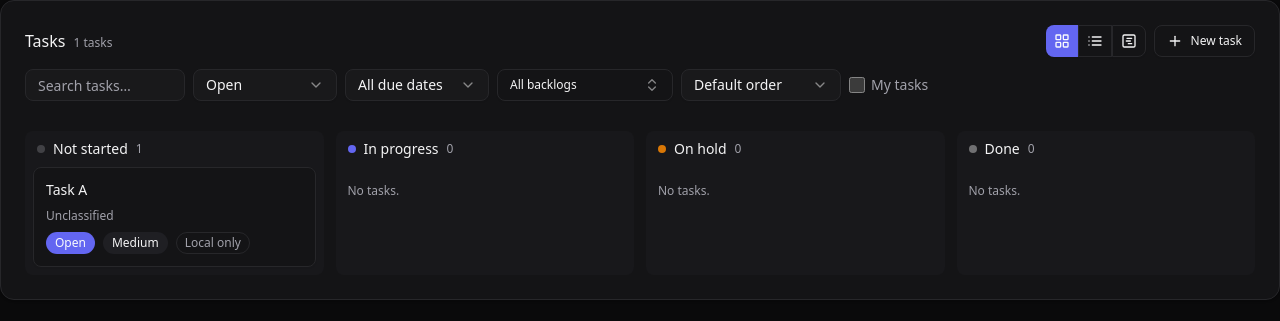
Test: TaskListSection › Bulk actions (issue #149) › reports a full failure without narrowing, since nothing succeeded
Click the button named "List". click: (1095, 41)
box: [1078,25,1112,57]
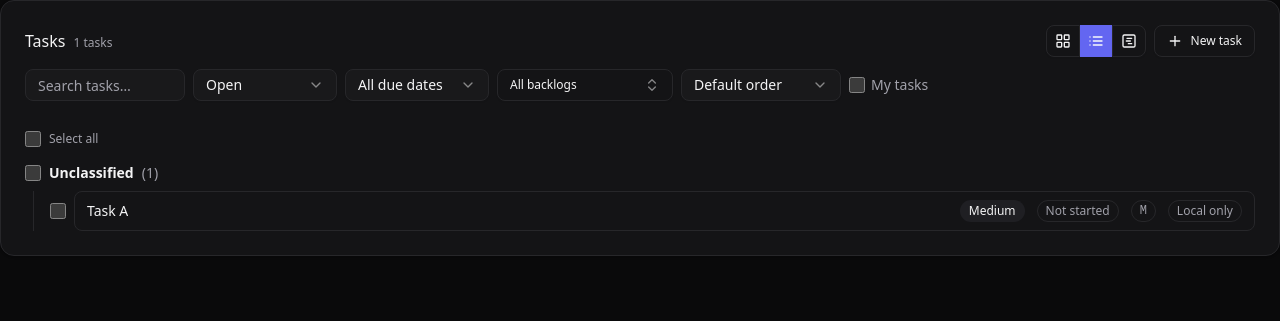
Click the checkbox named "Select Task A". click: (58, 211)
box: [50,203,66,219]
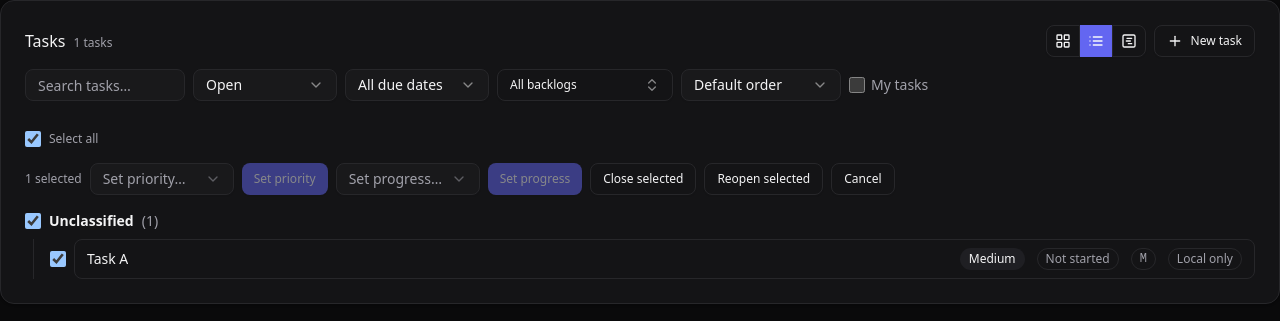
Click the button "Close selected". click: (643, 179)
box: [590,163,696,195]
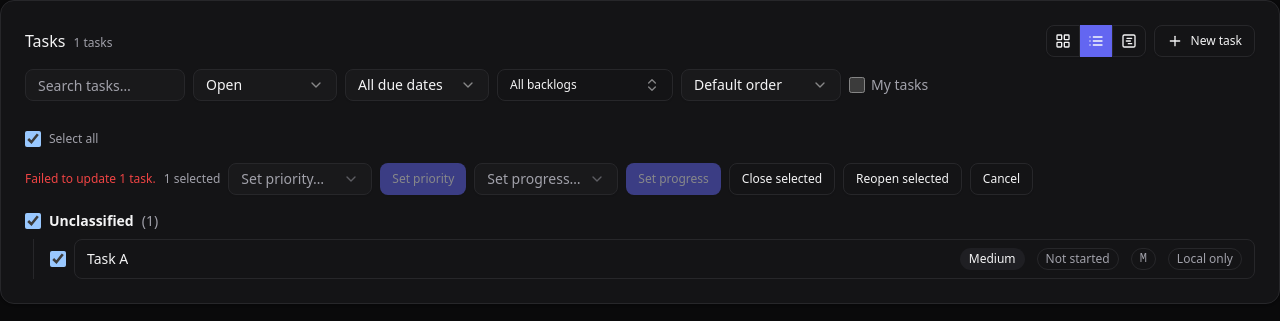
Expected: the text "1 selected" is shown, [164,171,220,187]
Expected: the text "Failed to update 1 task." is shown, [25,171,156,187]
